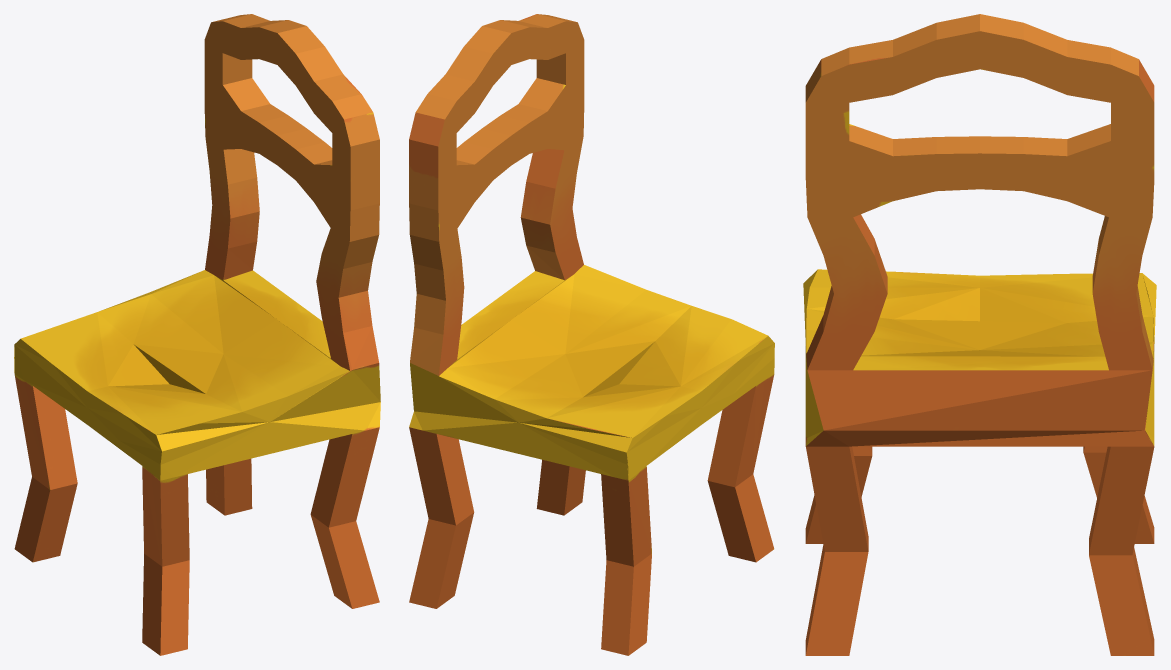
Rendered from CHAIR ORANGE.fbx.
3 views of the same model, side by side, from view 1: azimuth 30°, elevation 25°; view 2: azimuth 150°, elevation 25°; view 3: azimuth 270°, elevation 25° (orthographic). The views are drawn at different scales.
Parts seen in each view (by area): view 1: chair_version_2_finished; view 2: chair_version_2_finished; view 3: chair_version_2_finished.
Boxes of the visible parts, box(x1,y1,x2,y2) form: chair_version_2_finished: box(14, 14, 380, 655); chair_version_2_finished: box(409, 14, 774, 655); chair_version_2_finished: box(803, 14, 1156, 655).
Size of the model in its own units: 57.45 by 126 by 64.57.
